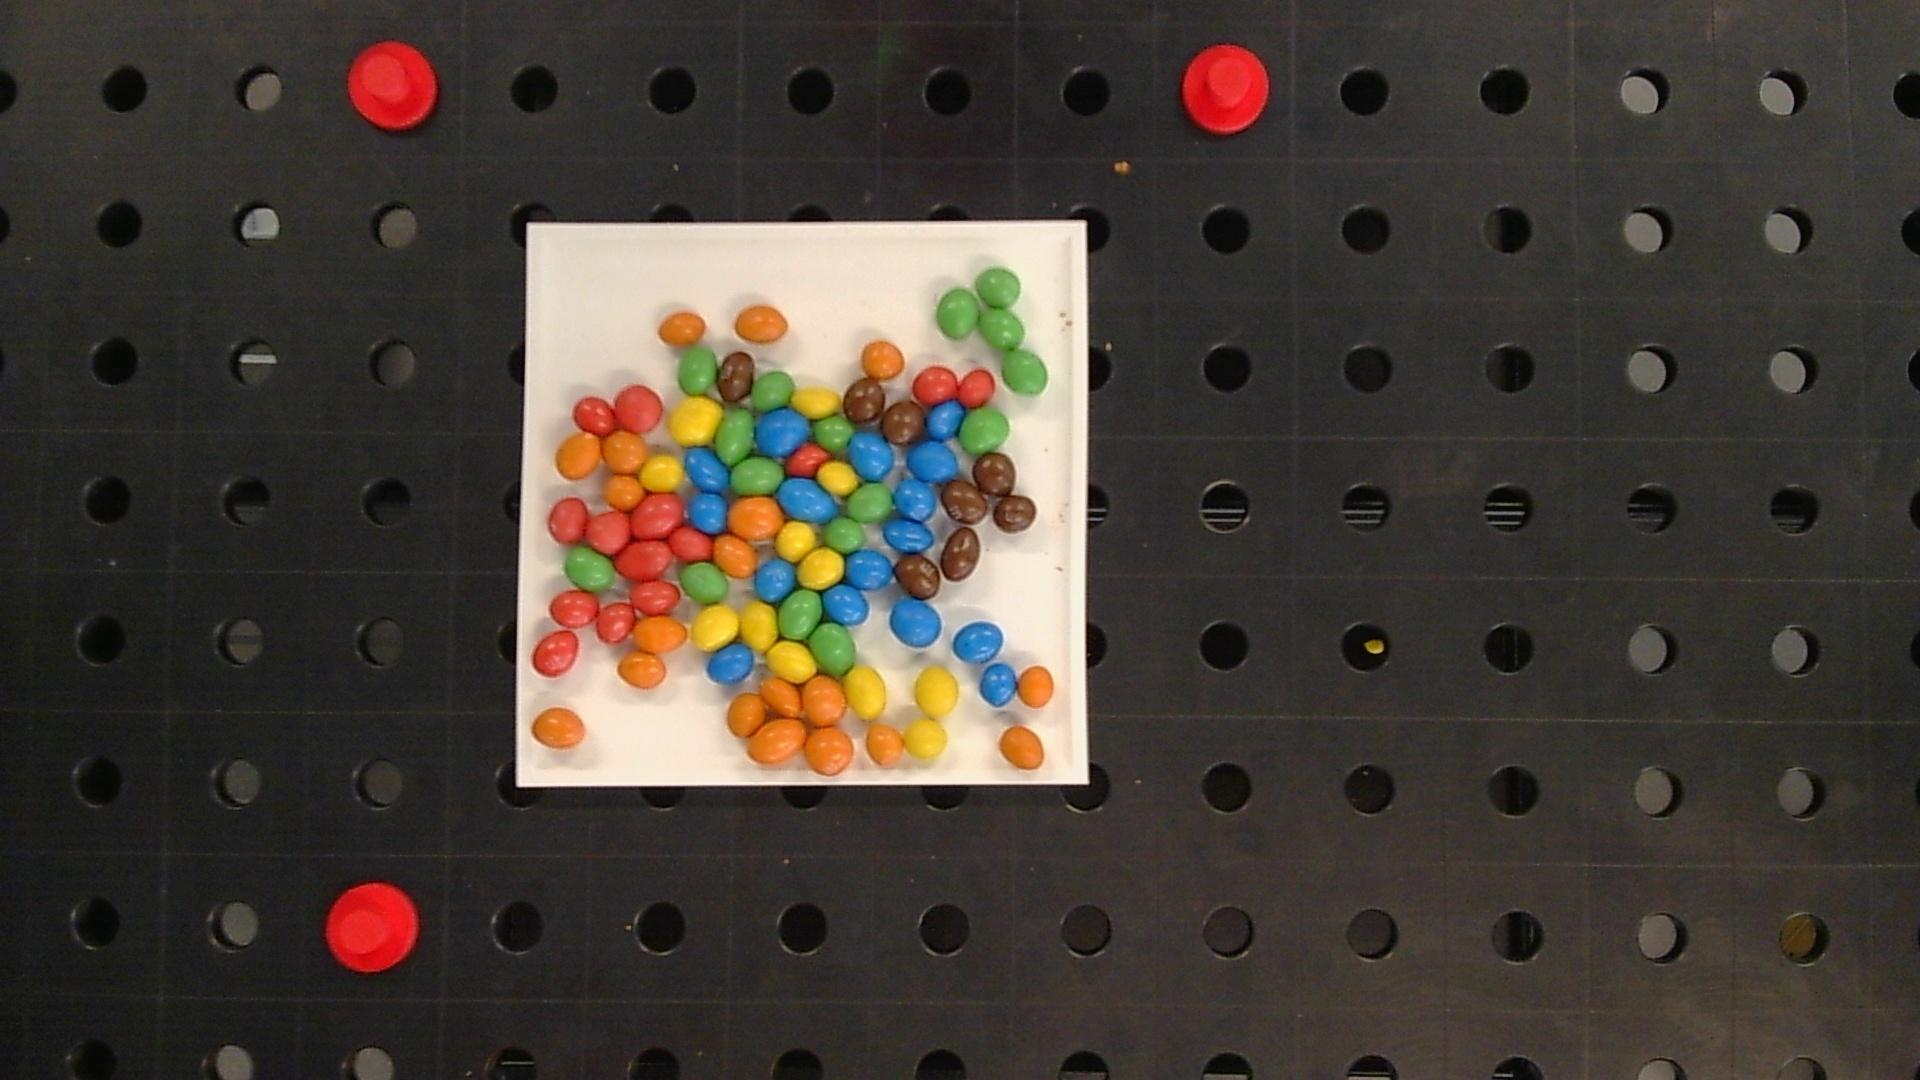blue: (885, 521, 940, 599), (778, 477, 837, 522), (889, 597, 942, 647), (757, 409, 811, 455), (907, 442, 959, 483), (953, 621, 1004, 662), (849, 434, 893, 480), (707, 644, 754, 683), (845, 551, 893, 591), (684, 448, 728, 491), (894, 479, 938, 521), (823, 585, 869, 625), (754, 559, 795, 601), (688, 492, 728, 531), (980, 665, 1017, 707), (927, 402, 964, 439)
brown: (940, 527, 980, 582), (942, 479, 988, 524), (895, 556, 940, 599), (843, 378, 885, 422), (881, 402, 924, 444), (719, 352, 754, 401), (973, 454, 1014, 496), (993, 495, 1036, 533)
green: (811, 622, 855, 674), (564, 547, 613, 591), (936, 289, 978, 339), (715, 409, 753, 463), (731, 456, 785, 495), (679, 563, 729, 604), (1002, 351, 1048, 394), (779, 591, 822, 638), (964, 410, 1009, 454), (980, 309, 1025, 349), (976, 268, 1021, 307), (678, 349, 717, 394), (847, 484, 893, 522), (752, 372, 794, 410), (824, 516, 865, 553), (814, 414, 853, 450)
orange: (748, 717, 806, 764), (804, 727, 855, 774), (531, 708, 585, 748), (731, 497, 782, 538), (803, 676, 845, 725), (556, 434, 601, 477), (633, 616, 687, 651), (713, 534, 757, 578), (1000, 727, 1044, 769), (735, 306, 787, 342), (617, 653, 666, 688), (603, 431, 646, 471), (728, 692, 766, 736), (861, 342, 905, 378), (658, 311, 705, 344), (865, 724, 903, 765), (761, 678, 800, 715), (1018, 666, 1054, 707), (605, 475, 644, 509)
red: (632, 495, 683, 537), (615, 385, 662, 430), (616, 541, 671, 579), (533, 632, 579, 675), (911, 365, 959, 404), (587, 512, 630, 553), (549, 498, 588, 542), (550, 591, 597, 626), (630, 580, 678, 615), (596, 603, 634, 642), (574, 397, 615, 434), (669, 526, 712, 559), (957, 369, 996, 405), (786, 444, 829, 475)
yellow: (669, 397, 721, 444), (914, 667, 957, 717), (845, 667, 886, 720), (691, 605, 738, 650), (766, 642, 816, 682), (799, 549, 844, 588), (740, 603, 777, 649), (903, 720, 947, 758), (775, 522, 816, 559), (641, 454, 683, 489), (793, 388, 840, 417), (818, 463, 858, 496)
